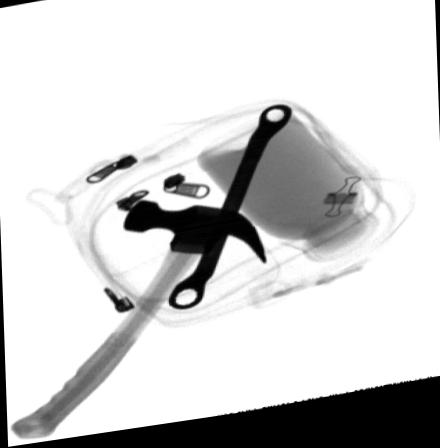Hammer: (9, 200, 269, 443)
Wrench: (170, 111, 292, 317)
